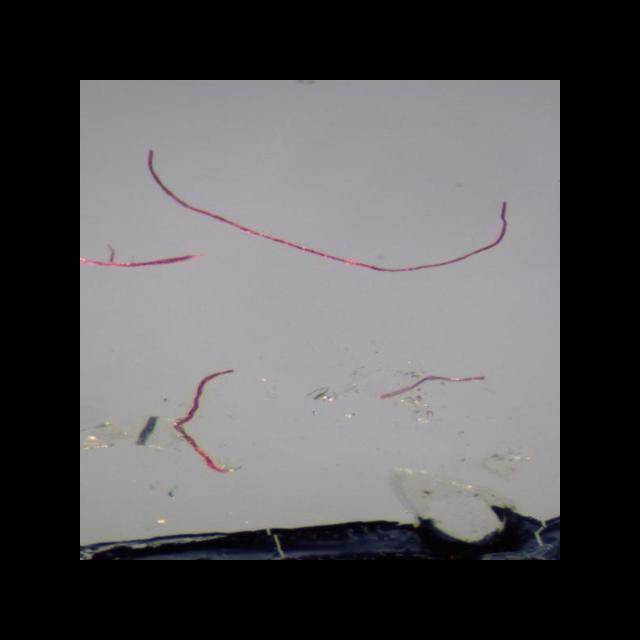Fibre: (140, 148, 516, 278), (163, 367, 245, 481), (367, 364, 498, 408), (80, 228, 204, 272), (538, 176, 560, 340)
